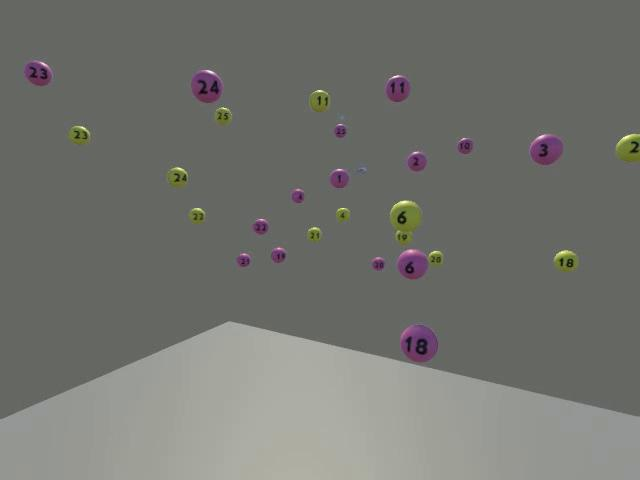ball_01_pink: (329, 169, 350, 188)
ball_02_pink: (406, 150, 427, 171)
ball_03_pink: (529, 133, 563, 164)
ball_04_pink: (291, 188, 304, 202)
ball_04_yellow: (336, 207, 350, 221)
ball_06_pink: (397, 249, 428, 280)
ball_06_yellow: (390, 199, 421, 231)
ball_10_pink: (457, 137, 472, 153)
ball_11_pink: (384, 74, 410, 102)
ball_11_yellow: (308, 89, 330, 110)
ball_18_pink: (400, 325, 437, 362)
ball_18_yellow: (554, 249, 578, 271)
ball_19_pink: (271, 247, 286, 263)
ball_19_yellow: (395, 229, 411, 244)
ball_20_pink: (371, 256, 384, 270)
ball_20_yellow: (428, 250, 443, 265)
ball_21_pink: (236, 253, 251, 267)
ball_21_yellow: (307, 227, 321, 241)
ball_22_pink: (252, 218, 268, 234)
ball_22_yellow: (188, 208, 205, 224)
ball_23_pink: (23, 59, 51, 86)
ball_23_yellow: (69, 125, 90, 145)
ball_24_pink: (191, 69, 222, 103)
ball_24_yellow: (167, 167, 188, 187)
ball_25_pink: (334, 123, 347, 137)
ball_25_yellow: (214, 106, 231, 124)
ball_unknown: (616, 133, 640, 162)
